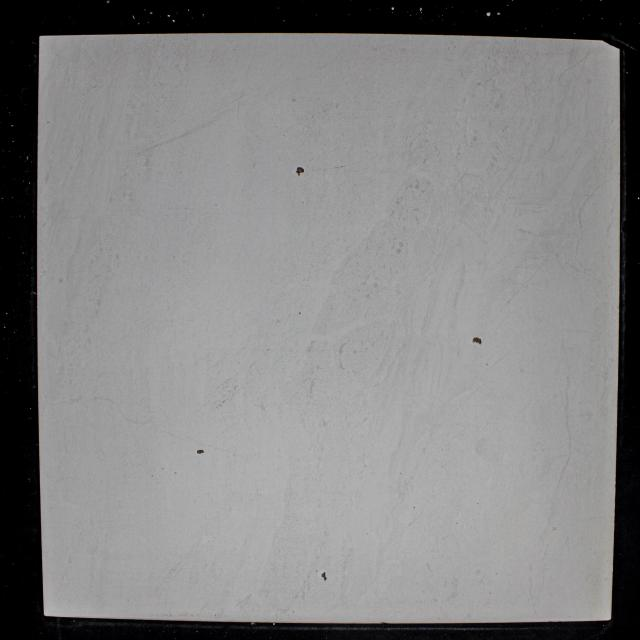edge-chipping: (602, 39, 620, 49)
hole: (320, 570, 328, 583), (472, 336, 482, 346), (295, 165, 304, 176), (195, 448, 205, 455)
